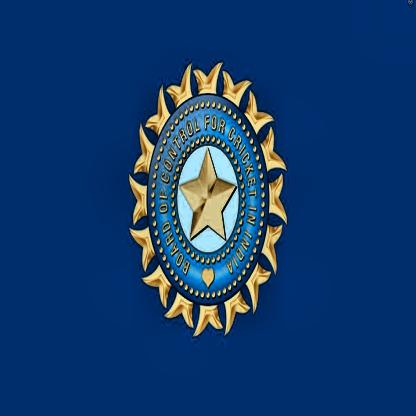BCCI: (129, 61, 288, 339)
